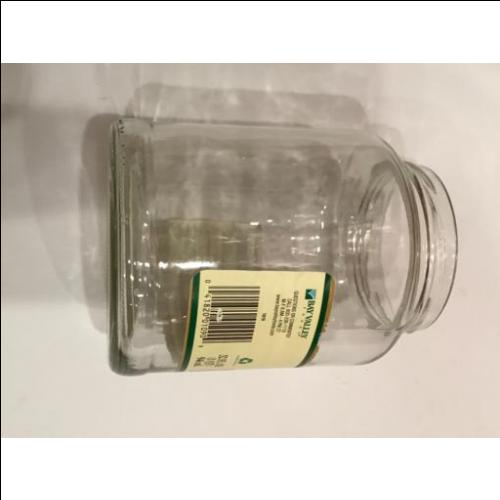glass: (110, 112, 456, 372)
